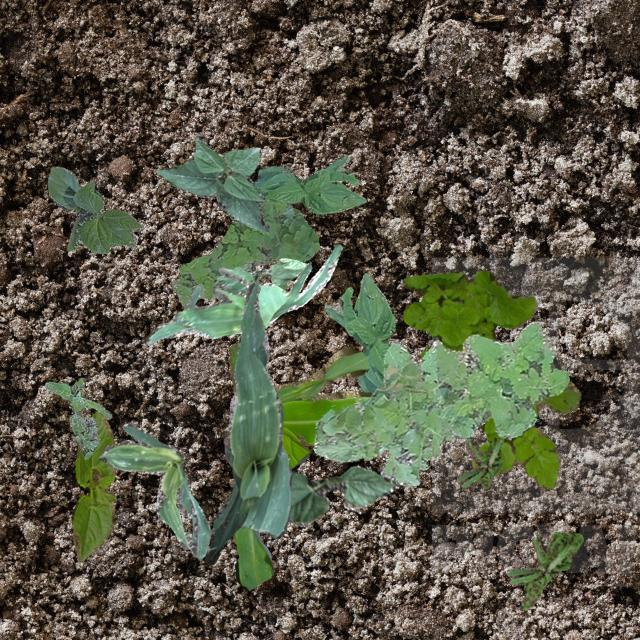crop: (228, 342, 374, 590), (204, 274, 290, 564), (144, 244, 340, 344), (99, 422, 210, 558), (154, 134, 268, 232), (324, 272, 406, 394), (46, 165, 142, 252), (70, 411, 116, 562), (286, 464, 398, 526), (252, 156, 366, 212), (212, 258, 304, 292)
weed: (312, 320, 568, 486), (402, 270, 580, 488), (170, 202, 318, 306), (506, 530, 582, 608), (44, 376, 110, 458), (456, 437, 500, 488)
